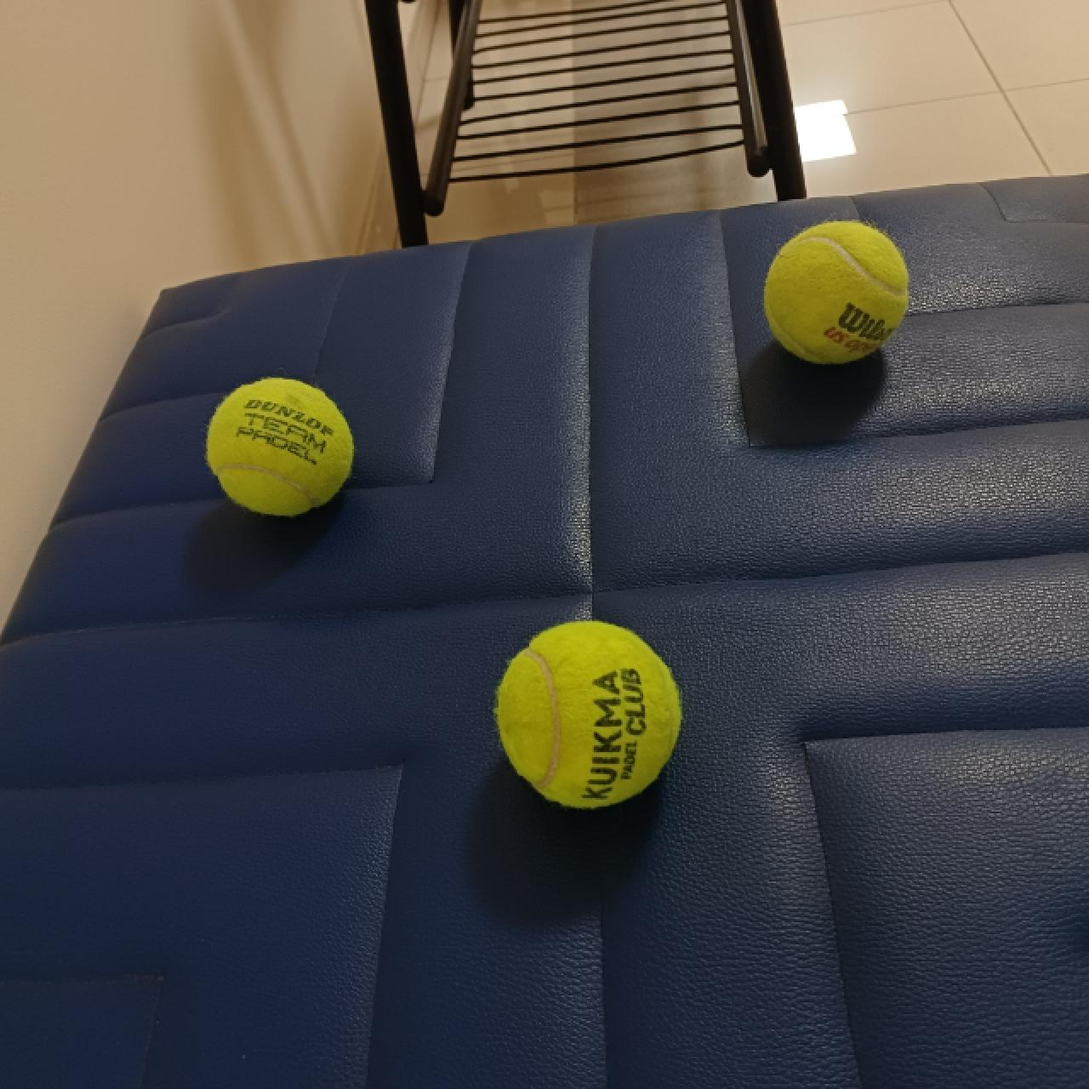tennis-ball: (492, 617, 686, 814), (758, 217, 916, 368), (202, 370, 363, 517)
